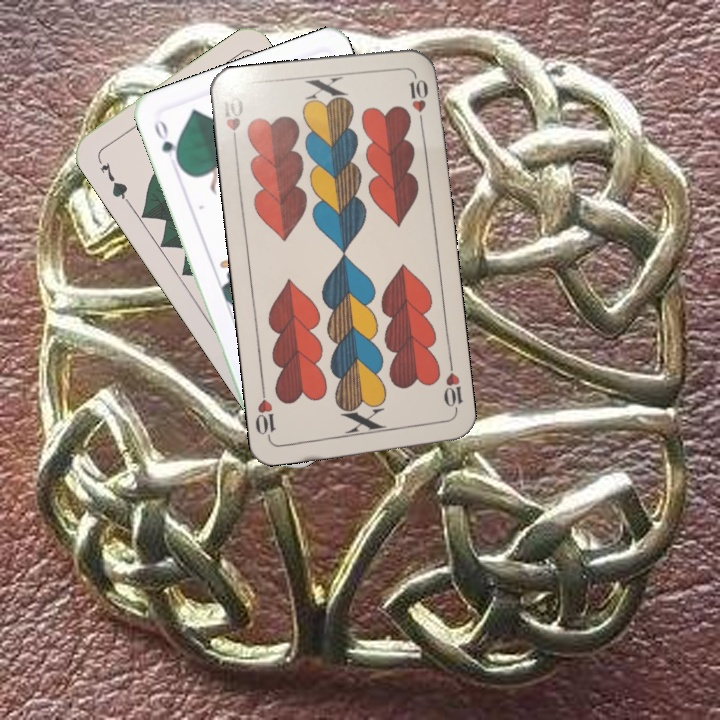G7: (93, 154, 133, 206)
GO: (150, 115, 184, 170)
H10: (218, 92, 246, 151), (439, 359, 466, 419)
